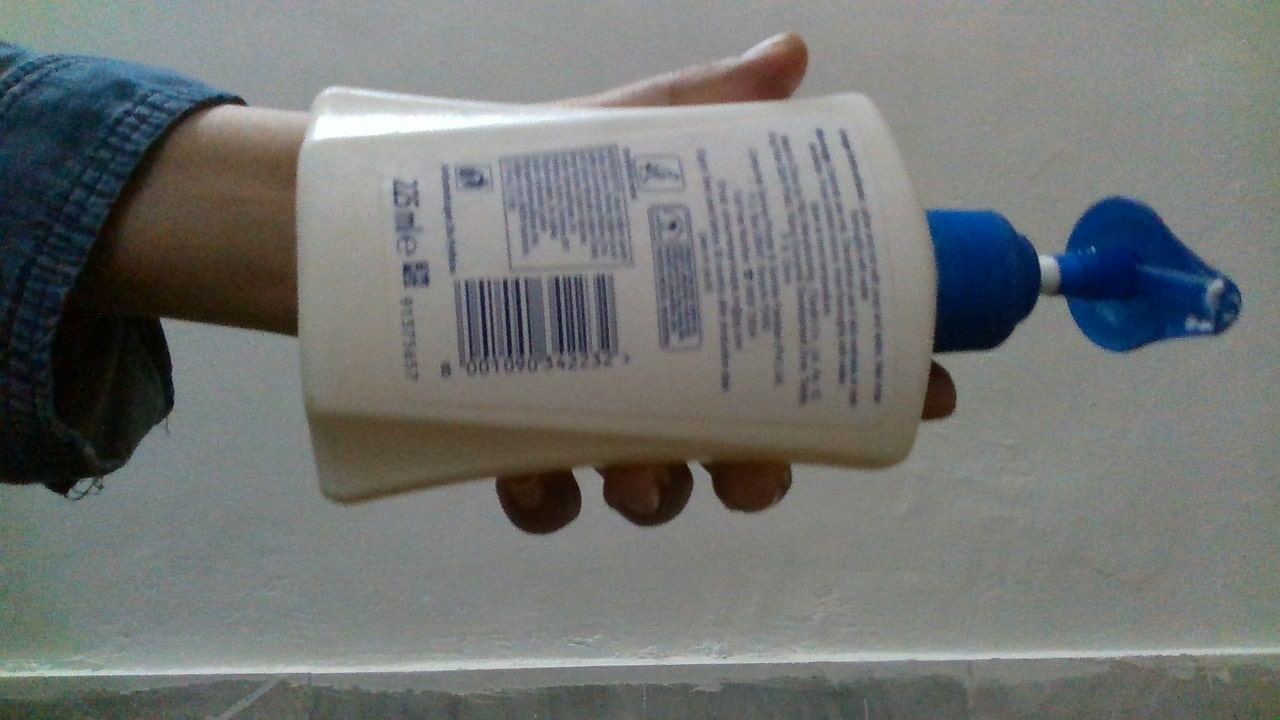Barcode: (451, 271, 626, 376)
